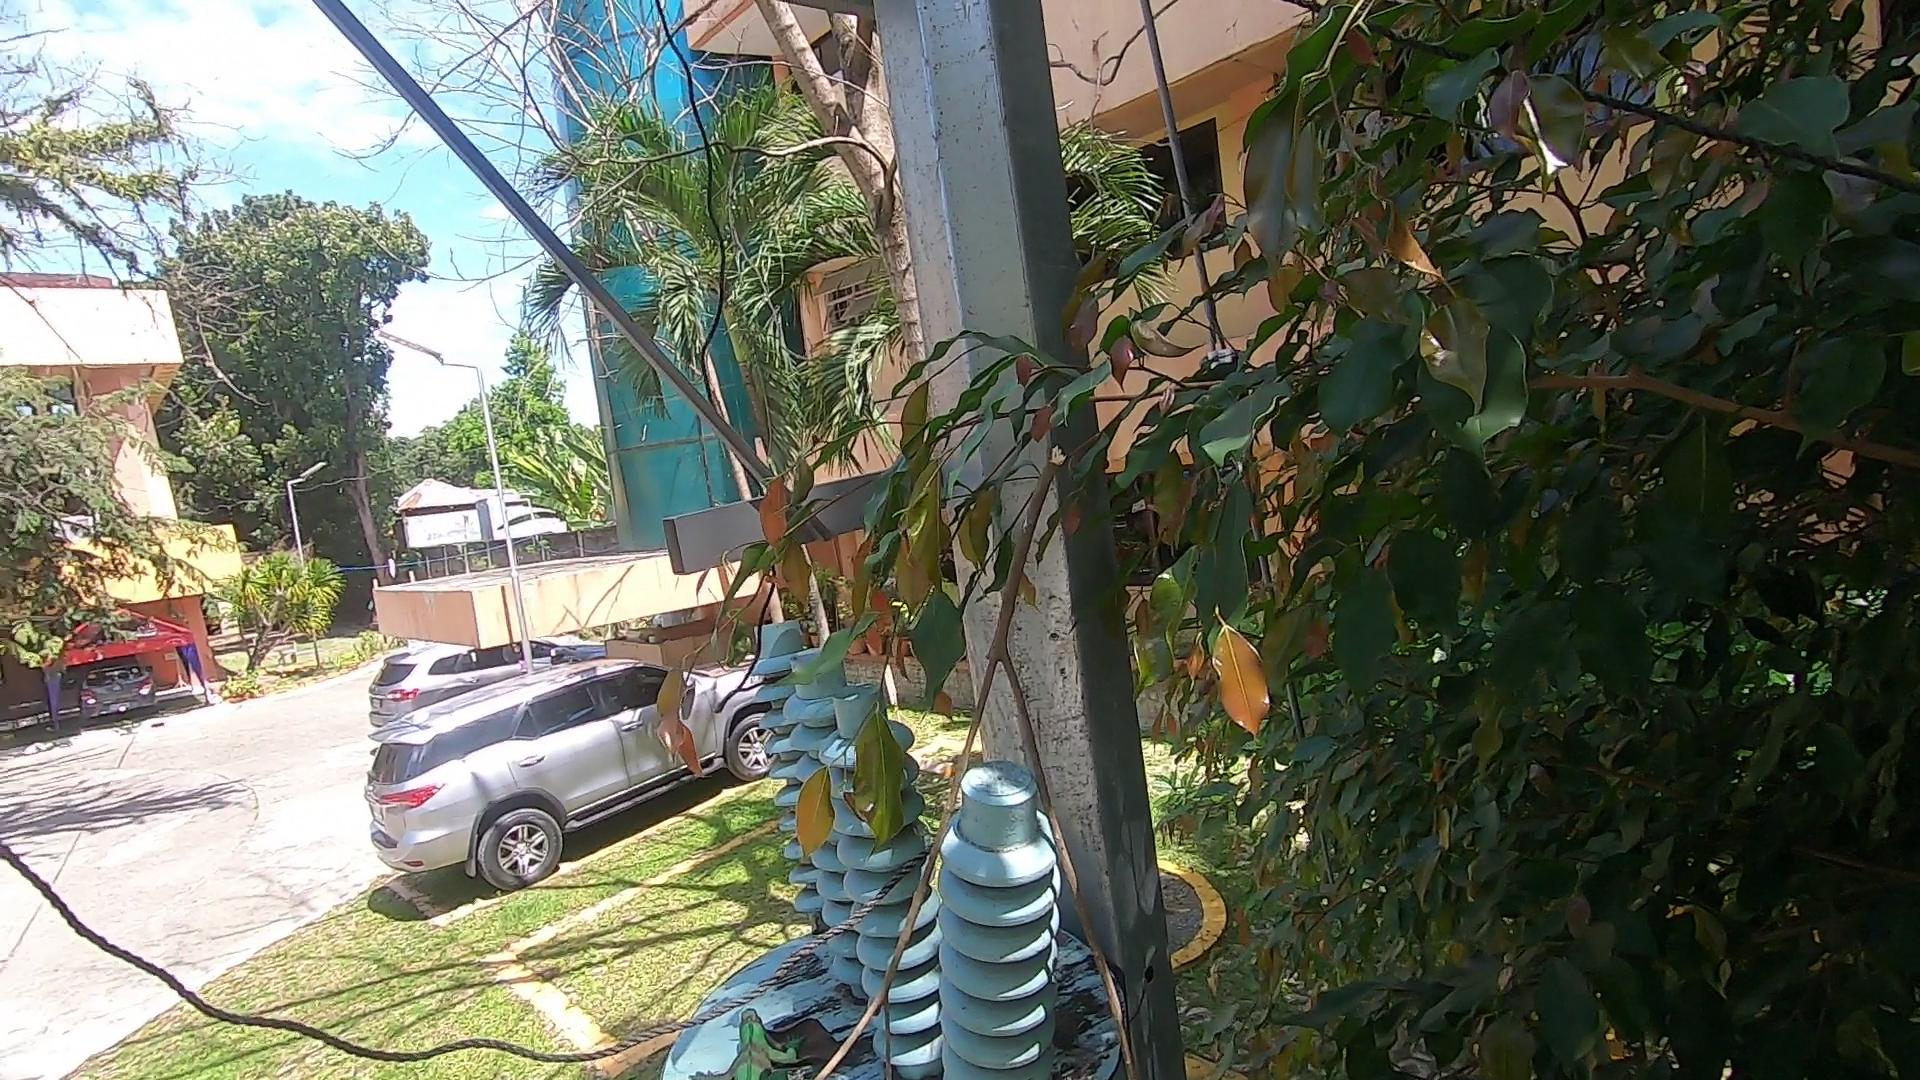leaf: (773, 1011, 852, 1065)
tree branch: (793, 438, 1189, 1077)
